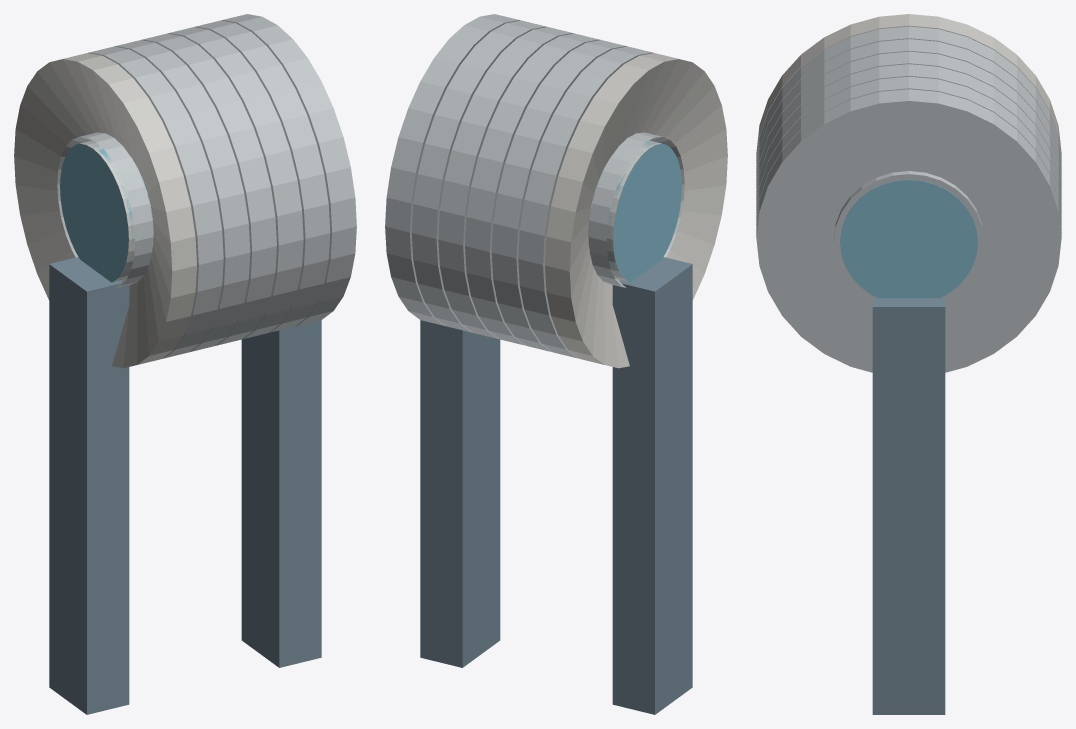
Rendered from 06_L75_IonExtractionElectrodeAssembly.glb.
The picture shows the model from 3 angles, left to right: view 1: azimuth 30°, elevation 25°; view 2: azimuth 150°, elevation 25°; view 3: azimuth 270°, elevation 25°; orthographic projection. The views are drawn at different scales.
Visible parts, largest first — view 1: IonExtractionElectrodeAssembly_Node_0012, IonExtractionElectrodeAssembly_Node_0000, IonExtractionElectrodeAssembly_Node_0013, IonExtractionElectrodeAssembly_Node_0001, IonExtractionElectrodeAssembly_Node_0003, IonExtractionElectrodeAssembly_Node_0004, IonExtractionElectrodeAssembly_Node_0005, IonExtractionElectrodeAssembly_Node_0002, IonExtractionElectrodeAssembly_Node_0006, IonExtractionElectrodeAssembly_Node_0007, IonExtractionElectrodeAssembly_Node_0008; view 2: IonExtractionElectrodeAssembly_Node_0012, IonExtractionElectrodeAssembly_Node_0000, IonExtractionElectrodeAssembly_Node_0013, IonExtractionElectrodeAssembly_Node_0001, IonExtractionElectrodeAssembly_Node_0003, IonExtractionElectrodeAssembly_Node_0004, IonExtractionElectrodeAssembly_Node_0005, IonExtractionElectrodeAssembly_Node_0002, IonExtractionElectrodeAssembly_Node_0006, IonExtractionElectrodeAssembly_Node_0007, IonExtractionElectrodeAssembly_Node_0008; view 3: IonExtractionElectrodeAssembly_Node_0006, IonExtractionElectrodeAssembly_Node_0013, IonExtractionElectrodeAssembly_Node_0007, IonExtractionElectrodeAssembly_Node_0000, IonExtractionElectrodeAssembly_Node_0004, IonExtractionElectrodeAssembly_Node_0002, IonExtractionElectrodeAssembly_Node_0005, IonExtractionElectrodeAssembly_Node_0001, IonExtractionElectrodeAssembly_Node_0003, IonExtractionElectrodeAssembly_Node_0011.
Part boxes in pixels (x1,y1,x2,y2): IonExtractionElectrodeAssembly_Node_0012: (49, 257, 129, 714); IonExtractionElectrodeAssembly_Node_0000: (14, 53, 196, 368); IonExtractionElectrodeAssembly_Node_0013: (241, 320, 321, 667); IonExtractionElectrodeAssembly_Node_0001: (88, 46, 223, 358); IonExtractionElectrodeAssembly_Node_0003: (141, 33, 276, 345); IonExtractionElectrodeAssembly_Node_0004: (167, 27, 303, 339); IonExtractionElectrodeAssembly_Node_0005: (195, 20, 330, 332); IonExtractionElectrodeAssembly_Node_0002: (114, 40, 250, 352); IonExtractionElectrodeAssembly_Node_0006: (219, 14, 356, 326); IonExtractionElectrodeAssembly_Node_0007: (60, 141, 153, 282); IonExtractionElectrodeAssembly_Node_0008: (57, 132, 153, 287); IonExtractionElectrodeAssembly_Node_0012: (612, 257, 692, 714); IonExtractionElectrodeAssembly_Node_0000: (545, 53, 727, 368); IonExtractionElectrodeAssembly_Node_0013: (420, 320, 500, 667); IonExtractionElectrodeAssembly_Node_0001: (518, 46, 653, 358); IonExtractionElectrodeAssembly_Node_0003: (465, 33, 600, 345); IonExtractionElectrodeAssembly_Node_0004: (438, 27, 574, 339); IonExtractionElectrodeAssembly_Node_0005: (411, 20, 546, 332); IonExtractionElectrodeAssembly_Node_0002: (491, 40, 627, 352); IonExtractionElectrodeAssembly_Node_0006: (385, 14, 522, 326); IonExtractionElectrodeAssembly_Node_0007: (588, 141, 681, 282); IonExtractionElectrodeAssembly_Node_0008: (588, 132, 684, 287); IonExtractionElectrodeAssembly_Node_0006: (756, 89, 1061, 372); IonExtractionElectrodeAssembly_Node_0013: (872, 298, 945, 714); IonExtractionElectrodeAssembly_Node_0007: (840, 179, 977, 298); IonExtractionElectrodeAssembly_Node_0000: (756, 14, 1061, 163); IonExtractionElectrodeAssembly_Node_0004: (756, 64, 1061, 213); IonExtractionElectrodeAssembly_Node_0002: (756, 39, 1061, 188); IonExtractionElectrodeAssembly_Node_0005: (756, 76, 1061, 226); IonExtractionElectrodeAssembly_Node_0001: (756, 26, 1061, 176); IonExtractionElectrodeAssembly_Node_0003: (756, 51, 1061, 201); IonExtractionElectrodeAssembly_Node_0011: (833, 171, 984, 301).
Bounding box in the file's own units: 0.72 × 1.83 × 0.84.
